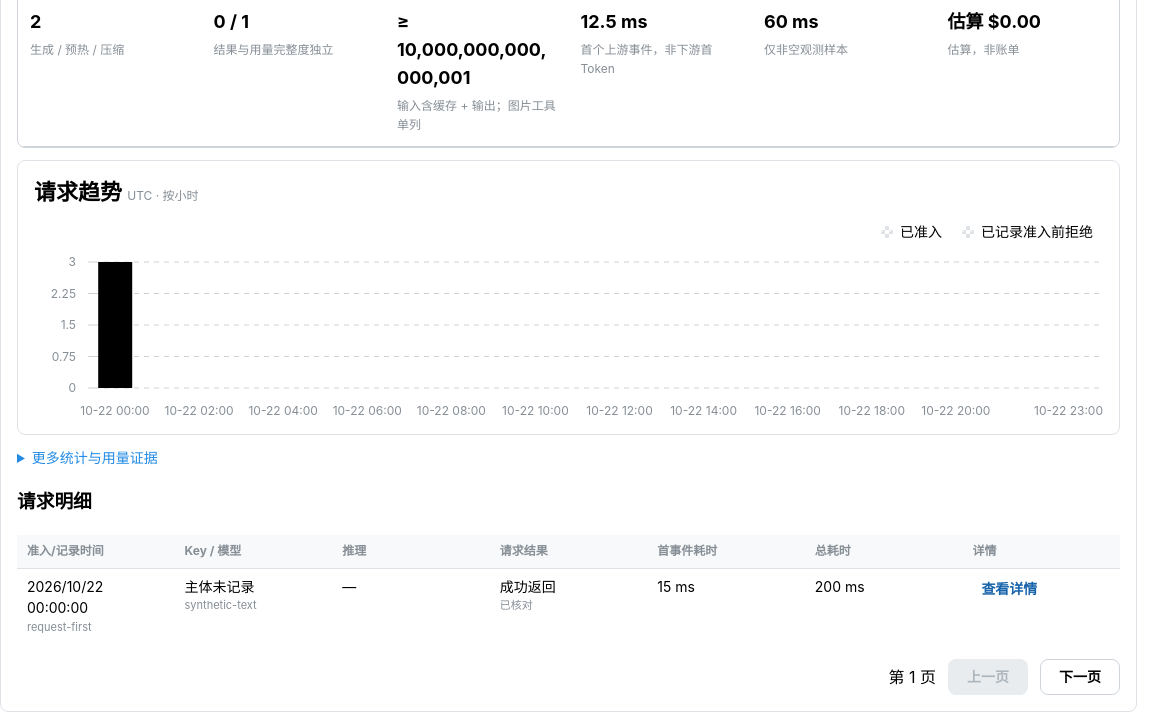
shows filtered aggregate latency, request duration columns and complete drawer metrics
This screenshot has width=1152, height=712.
(page scrolled)
Expected: the text "12.5 ms" is shown, [580, 11, 648, 32]
Expected: the text "60 ms" is shown, [764, 11, 819, 32]
What coordinates should you click on to do the following:
click the heading "更多统计与用量证据"
I would click on:
 (95, 458)
Its box is [32, 449, 158, 466].
(page scrolled)
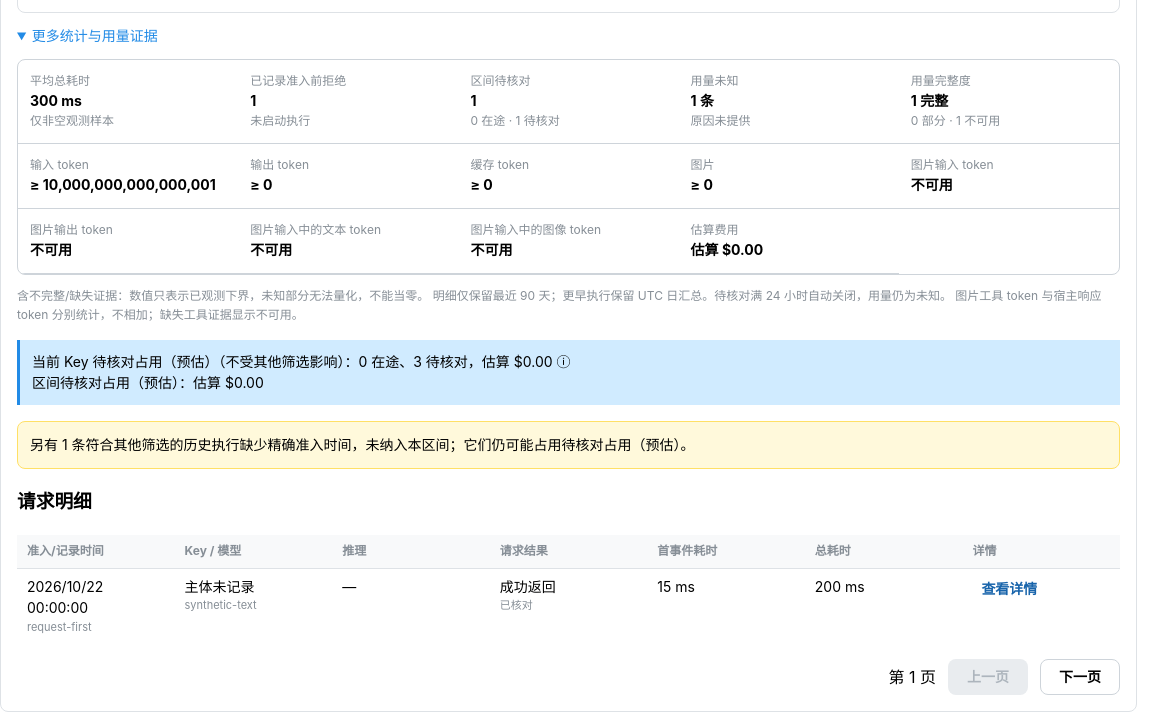
Expected: the column heading "首事件耗时" is shown, [647, 535, 805, 568]
Now the text "300 ms" is shown, box [30, 92, 82, 109]
What coordinates should you click on to do the following:
click the button "查看详情"
I would click on:
 (1009, 589)
Its box is [972, 576, 1046, 602].
(page scrolled)
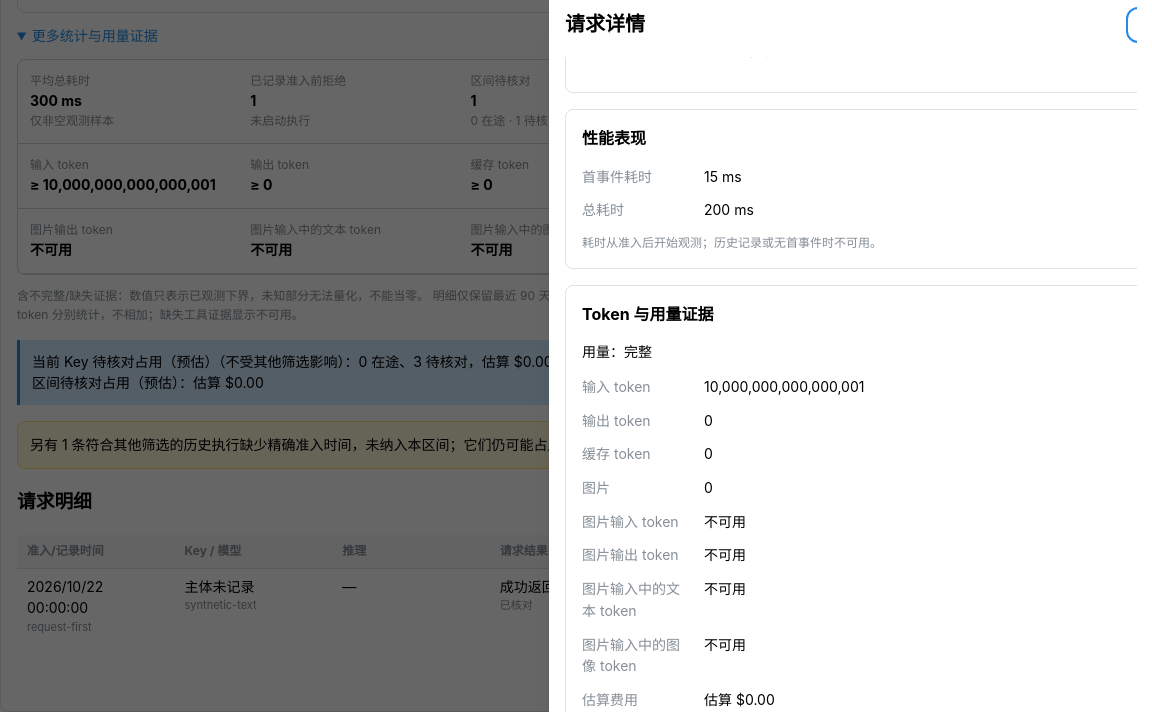
Now the text "缓存 token" is shown, box [582, 445, 651, 462]
Now the text "用量：完整" is shown, box [582, 343, 652, 360]
